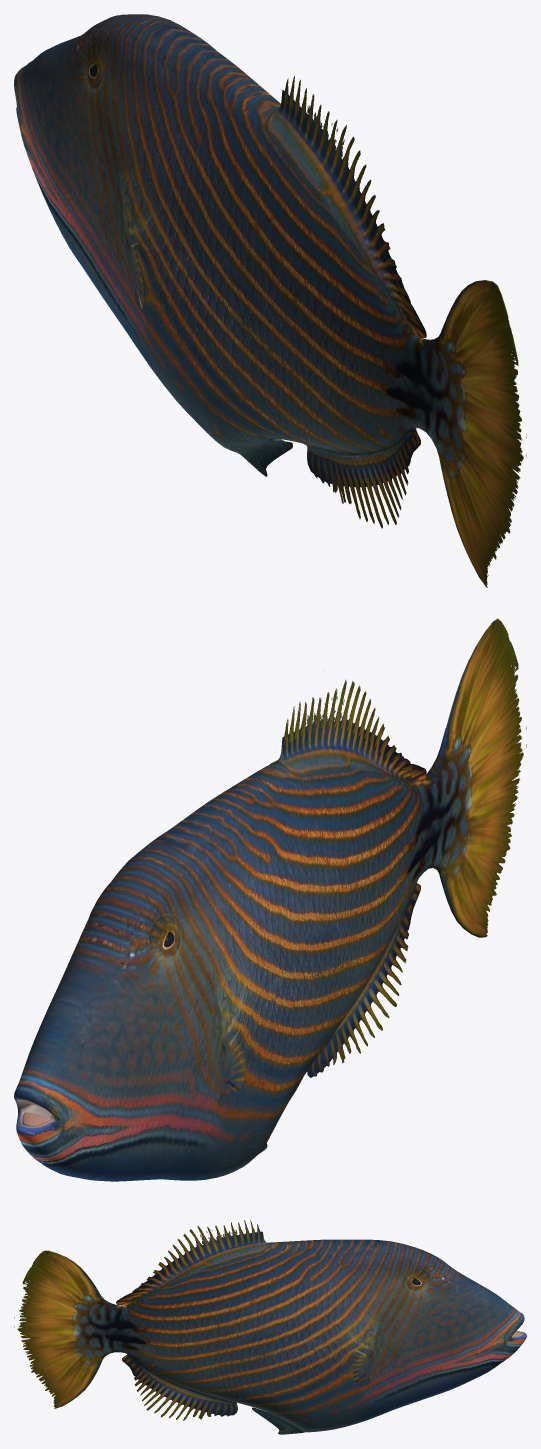
File: Undualte_Triggerfish.FBX
The picture shows the model from 3 angles, top to bottom: view 1: azimuth 30°, elevation 25°; view 2: azimuth 150°, elevation 25°; view 3: azimuth 270°, elevation 25°; orthographic projection. The views are drawn at different scales.
Visible parts, largest first — view 1: Undualte_Triggerfish; view 2: Undualte_Triggerfish; view 3: Undualte_Triggerfish.
Boxes of the visible parts, x1,y1,x2,y2 form: Undualte_Triggerfish: (14, 14, 526, 587); Undualte_Triggerfish: (14, 618, 526, 1181); Undualte_Triggerfish: (14, 1220, 526, 1434).
Size of the model in its own units: 3.26 by 12.12 by 25.13.
1 material, 1 textured.
